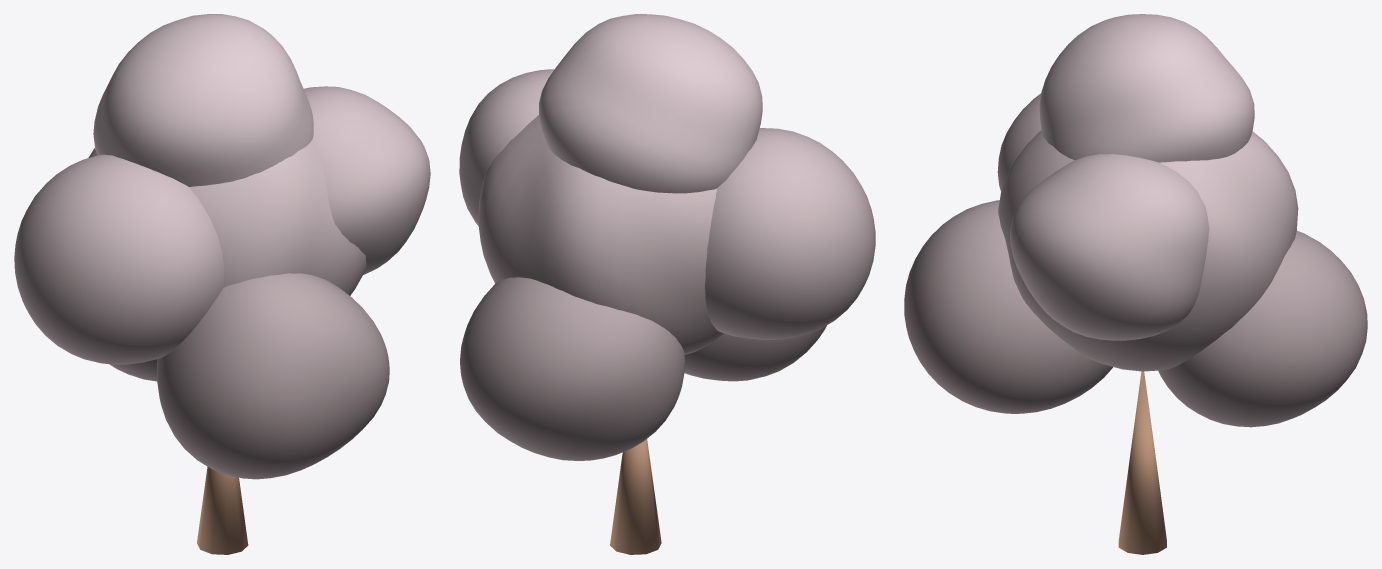
Rendered from tree_c_spring.glb.
3 renders of one model, left to right at view 1: azimuth 30°, elevation 25°; view 2: azimuth 150°, elevation 25°; view 3: azimuth 270°, elevation 25°, orthographic. The views are drawn at different scales.
Visible parts, largest first — view 1: crown, trunk; view 2: crown, trunk; view 3: crown, trunk.
Part boxes in pixels (x1,y1,x2,y2): crown: (14, 14, 430, 479); trunk: (197, 466, 248, 554); crown: (459, 14, 875, 460); trunk: (610, 439, 661, 554); crown: (904, 14, 1367, 427); trunk: (1118, 371, 1166, 554).
Size of the model in its own units: 4.78 by 6.16 by 5.05.
